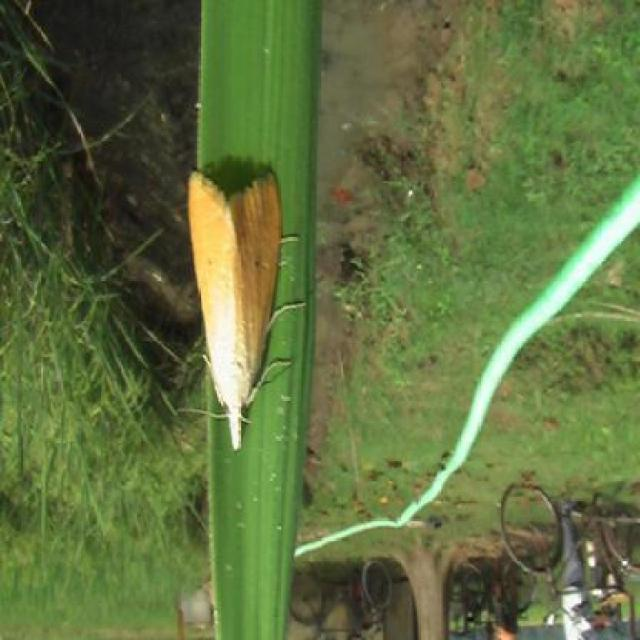stem-borer: (188, 165, 307, 452)
